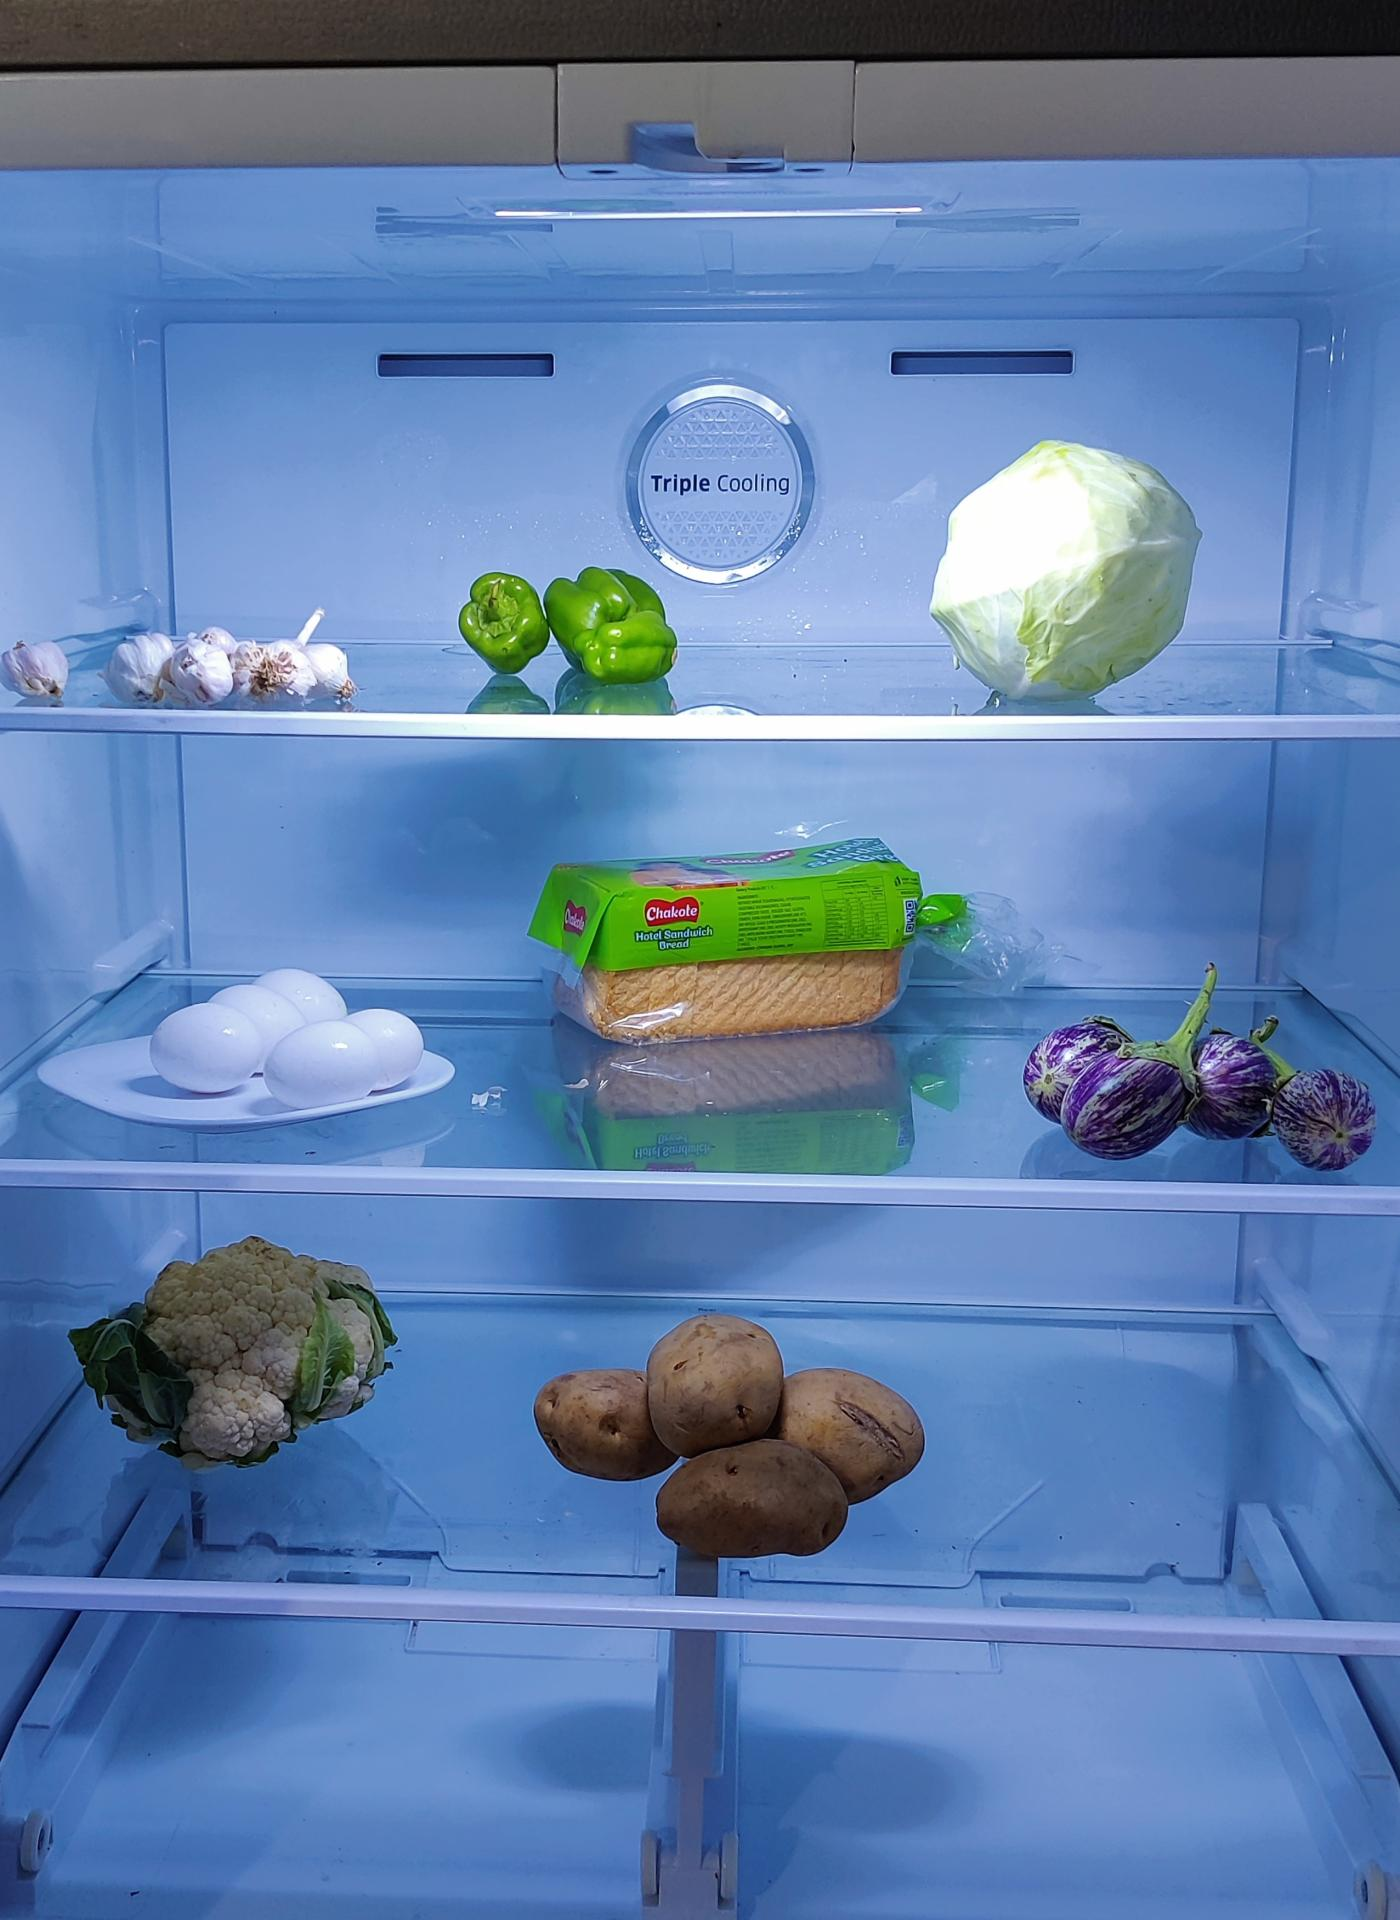bread: (538, 839, 944, 1054)
brinjal: (1018, 999, 1376, 1169)
cabbage: (935, 434, 1203, 701)
capsicum: (452, 565, 680, 695)
cauliflower: (79, 1227, 398, 1462)
egg: (154, 967, 420, 1105)
garlic: (116, 607, 358, 711)
potato: (534, 1303, 929, 1558)
